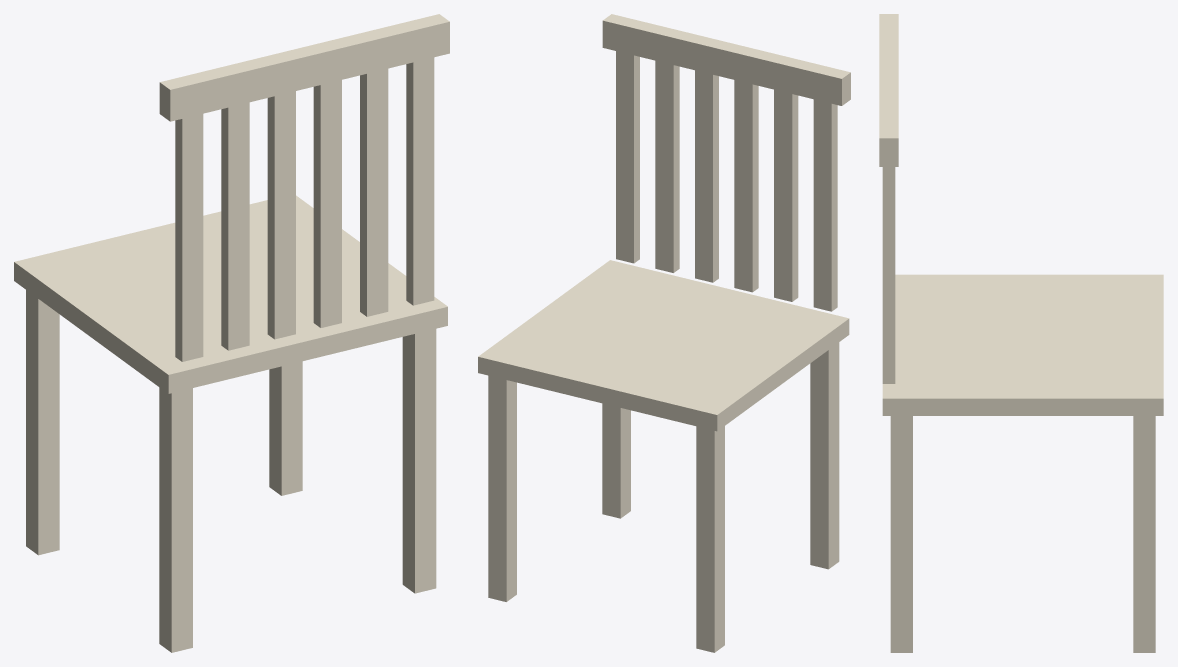
The model's file is chair-plastic.obj.
The picture shows the model from 3 angles, left to right: view 1: azimuth 30°, elevation 25°; view 2: azimuth 150°, elevation 25°; view 3: azimuth 270°, elevation 25°; orthographic projection. The views are drawn at different scales.
Parts seen in each view (by area): view 1: chair-plastic_4, chair-plastic_11, chair-plastic_3, chair-plastic_2, chair-plastic_0, chair-plastic_10, chair-plastic_9, chair-plastic_5, chair-plastic_6, chair-plastic_7, chair-plastic_8, chair-plastic_1; view 2: chair-plastic_4, chair-plastic_11, chair-plastic_0, chair-plastic_2, chair-plastic_1, chair-plastic_5, chair-plastic_7, chair-plastic_9, chair-plastic_6, chair-plastic_10, chair-plastic_8, chair-plastic_3; view 3: chair-plastic_4, chair-plastic_1, chair-plastic_3, chair-plastic_11, chair-plastic_10.
Part boxes in pixels (<box>): chair-plastic_4: <box>14,195,447,393</box>; chair-plastic_11: <box>159,14,449,121</box>; chair-plastic_3: <box>402,329,436,593</box>; chair-plastic_2: <box>159,387,192,652</box>; chair-plastic_0: <box>26,290,59,555</box>; chair-plastic_10: <box>406,57,434,305</box>; chair-plastic_9: <box>360,68,388,316</box>; chair-plastic_5: <box>175,114,203,361</box>; chair-plastic_6: <box>221,102,249,350</box>; chair-plastic_7: <box>267,91,295,339</box>; chair-plastic_8: <box>313,80,341,327</box>; chair-plastic_1: <box>269,361,302,495</box>; chair-plastic_4: <box>478,260,849,431</box>; chair-plastic_11: <box>602,14,850,105</box>; chair-plastic_0: <box>696,426,724,652</box>; chair-plastic_2: <box>810,342,839,569</box>; chair-plastic_1: <box>488,375,516,601</box>; chair-plastic_5: <box>813,99,837,311</box>; chair-plastic_7: <box>734,80,758,292</box>; chair-plastic_9: <box>655,60,679,272</box>; chair-plastic_6: <box>774,89,798,301</box>; chair-plastic_10: <box>616,51,639,263</box>; chair-plastic_8: <box>695,70,718,282</box>; chair-plastic_3: <box>602,403,630,518</box>; chair-plastic_4: <box>882,274,1163,415</box>; chair-plastic_1: <box>1133,416,1155,652</box>; chair-plastic_3: <box>890,416,912,652</box>; chair-plastic_11: <box>879,14,898,166</box>; chair-plastic_10: <box>882,167,895,383</box>.
Bounding box in the file's own units: 0.46 × 0.895 × 0.445.
